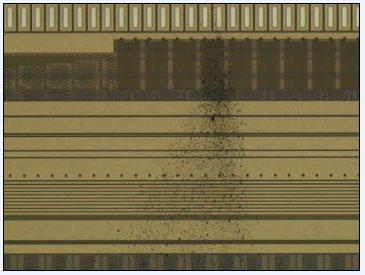PO CONTAMINATION: (93, 28, 266, 271)
